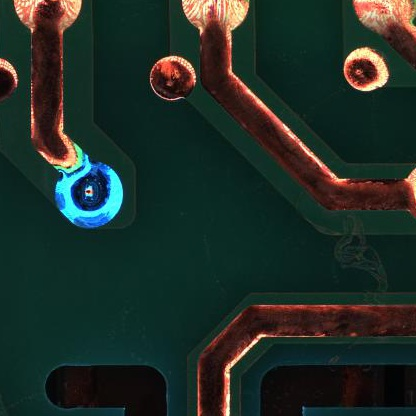spot: (51, 163, 124, 228)
